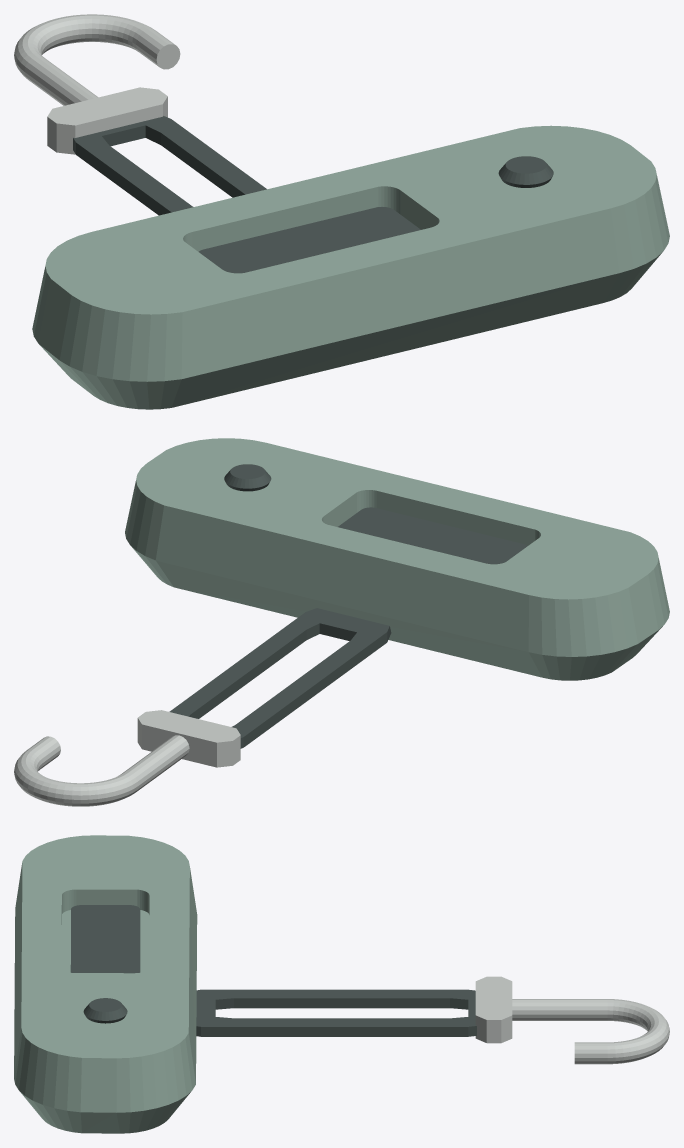
3 renders of one model, top to bottom at view 1: azimuth 30°, elevation 25°; view 2: azimuth 150°, elevation 25°; view 3: azimuth 270°, elevation 25°, orthographic. The views are drawn at different scales.
Parts seen in each view (by area): view 1: WholeWideRoundedHousingWithSingleBlindTopWell, WholeFlatFiniteOpenWebbingLoop, WholeBluntReturnedJHook, WholeBlankOpaqueInsetReadout, WholeTransverseHookConnectorBar, WholeSmallTopButton; view 2: WholeWideRoundedHousingWithSingleBlindTopWell, WholeFlatFiniteOpenWebbingLoop, WholeBluntReturnedJHook, WholeBlankOpaqueInsetReadout, WholeTransverseHookConnectorBar, WholeSmallTopButton; view 3: WholeWideRoundedHousingWithSingleBlindTopWell, WholeFlatFiniteOpenWebbingLoop, WholeBluntReturnedJHook, WholeBlankOpaqueInsetReadout, WholeTransverseHookConnectorBar, WholeSmallTopButton.
Boxes of the visible parts, x1,y1,x2,y2 form: WholeWideRoundedHousingWithSingleBlindTopWell: (32,125,669,409); WholeFlatFiniteOpenWebbingLoop: (73,116,266,215); WholeBluntReturnedJHook: (14,14,180,105); WholeBlankOpaqueInsetReadout: (199,207,420,273); WholeTransverseHookConnectorBar: (47,87,167,154); WholeSmallTopButton: (498,156,553,187); WholeWideRoundedHousingWithSingleBlindTopWell: (125,438,669,680); WholeFlatFiniteOpenWebbingLoop: (169,608,391,748); WholeBluntReturnedJHook: (14,735,189,806); WholeBlankOpaqueInsetReadout: (338,507,527,564); WholeTransverseHookConnectorBar: (137,710,240,767); WholeSmallTopButton: (224,464,271,491); WholeWideRoundedHousingWithSingleBlindTopWell: (14,835,197,1133); WholeFlatFiniteOpenWebbingLoop: (196,989,476,1036); WholeBluntReturnedJHook: (512,999,669,1064); WholeBlankOpaqueInsetReadout: (70,905,140,973); WholeTransverseHookConnectorBar: (475,976,512,1043); WholeSmallTopButton: (83,998,127,1023).
Bounding box in the file's own units: 0.15 × 0.028 × 0.179.
